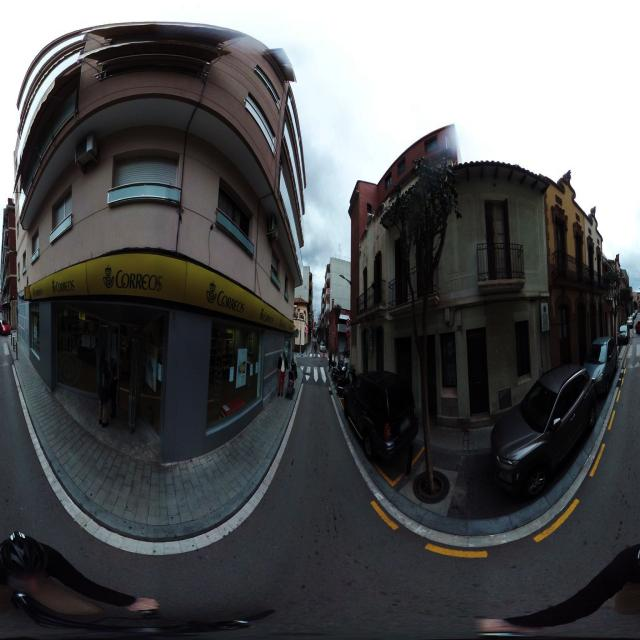car: (490, 362, 598, 504), (583, 336, 618, 395), (618, 322, 629, 345), (0, 320, 10, 336), (634, 312, 640, 335)
